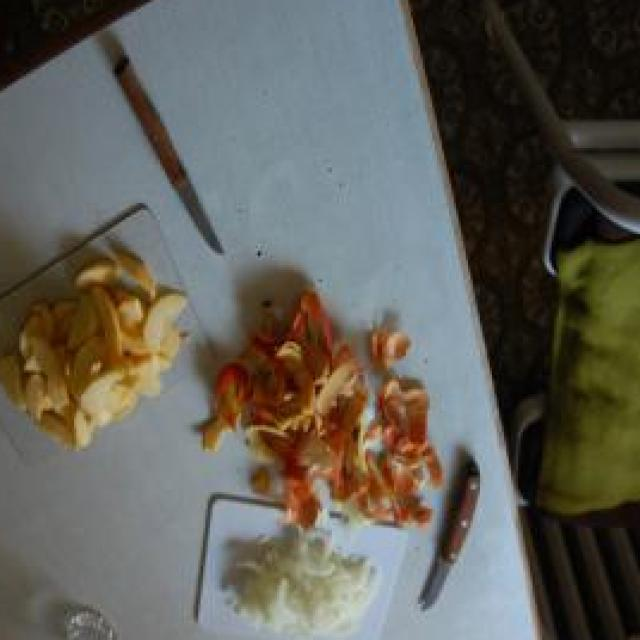knife: (124, 68, 232, 268), (415, 449, 486, 618)
